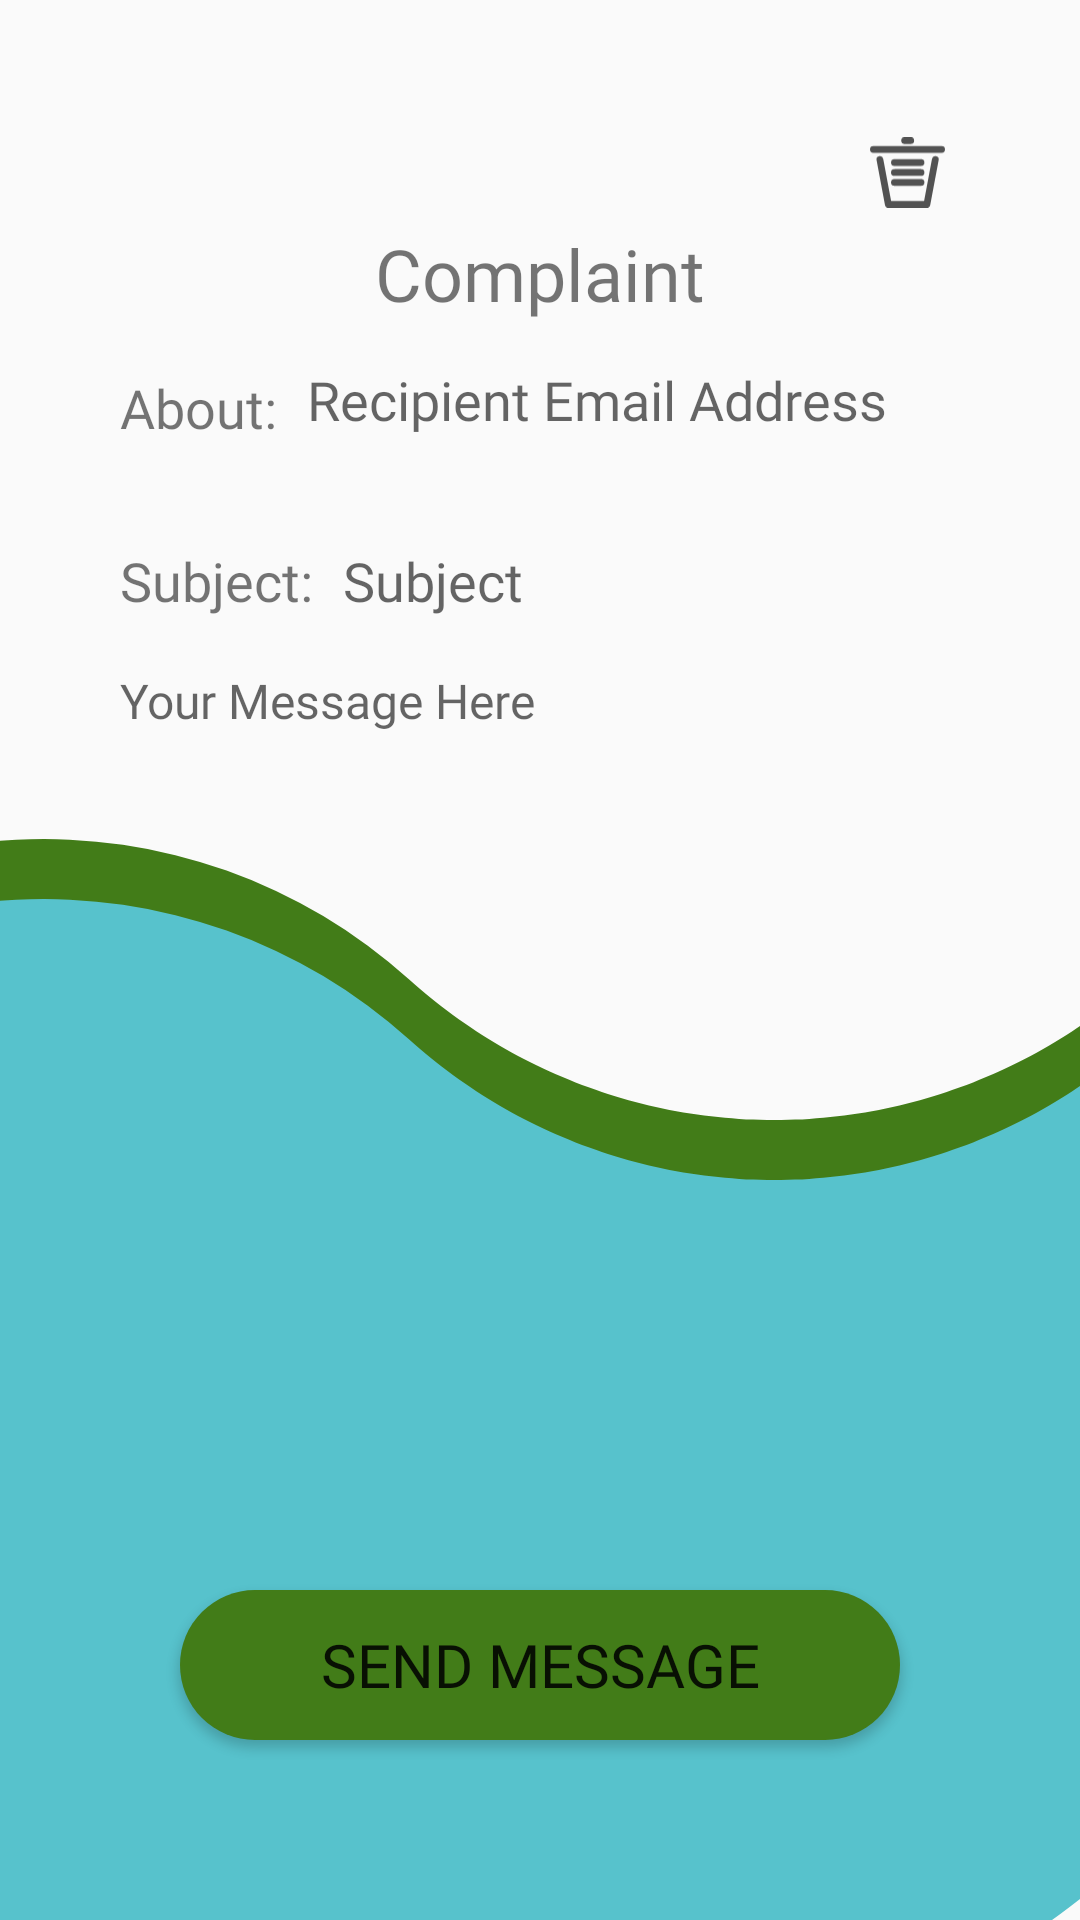

Point at icon controls on the screen. Image size 1080 × 1920, points as point (x, y).
trash: point (907, 172)
